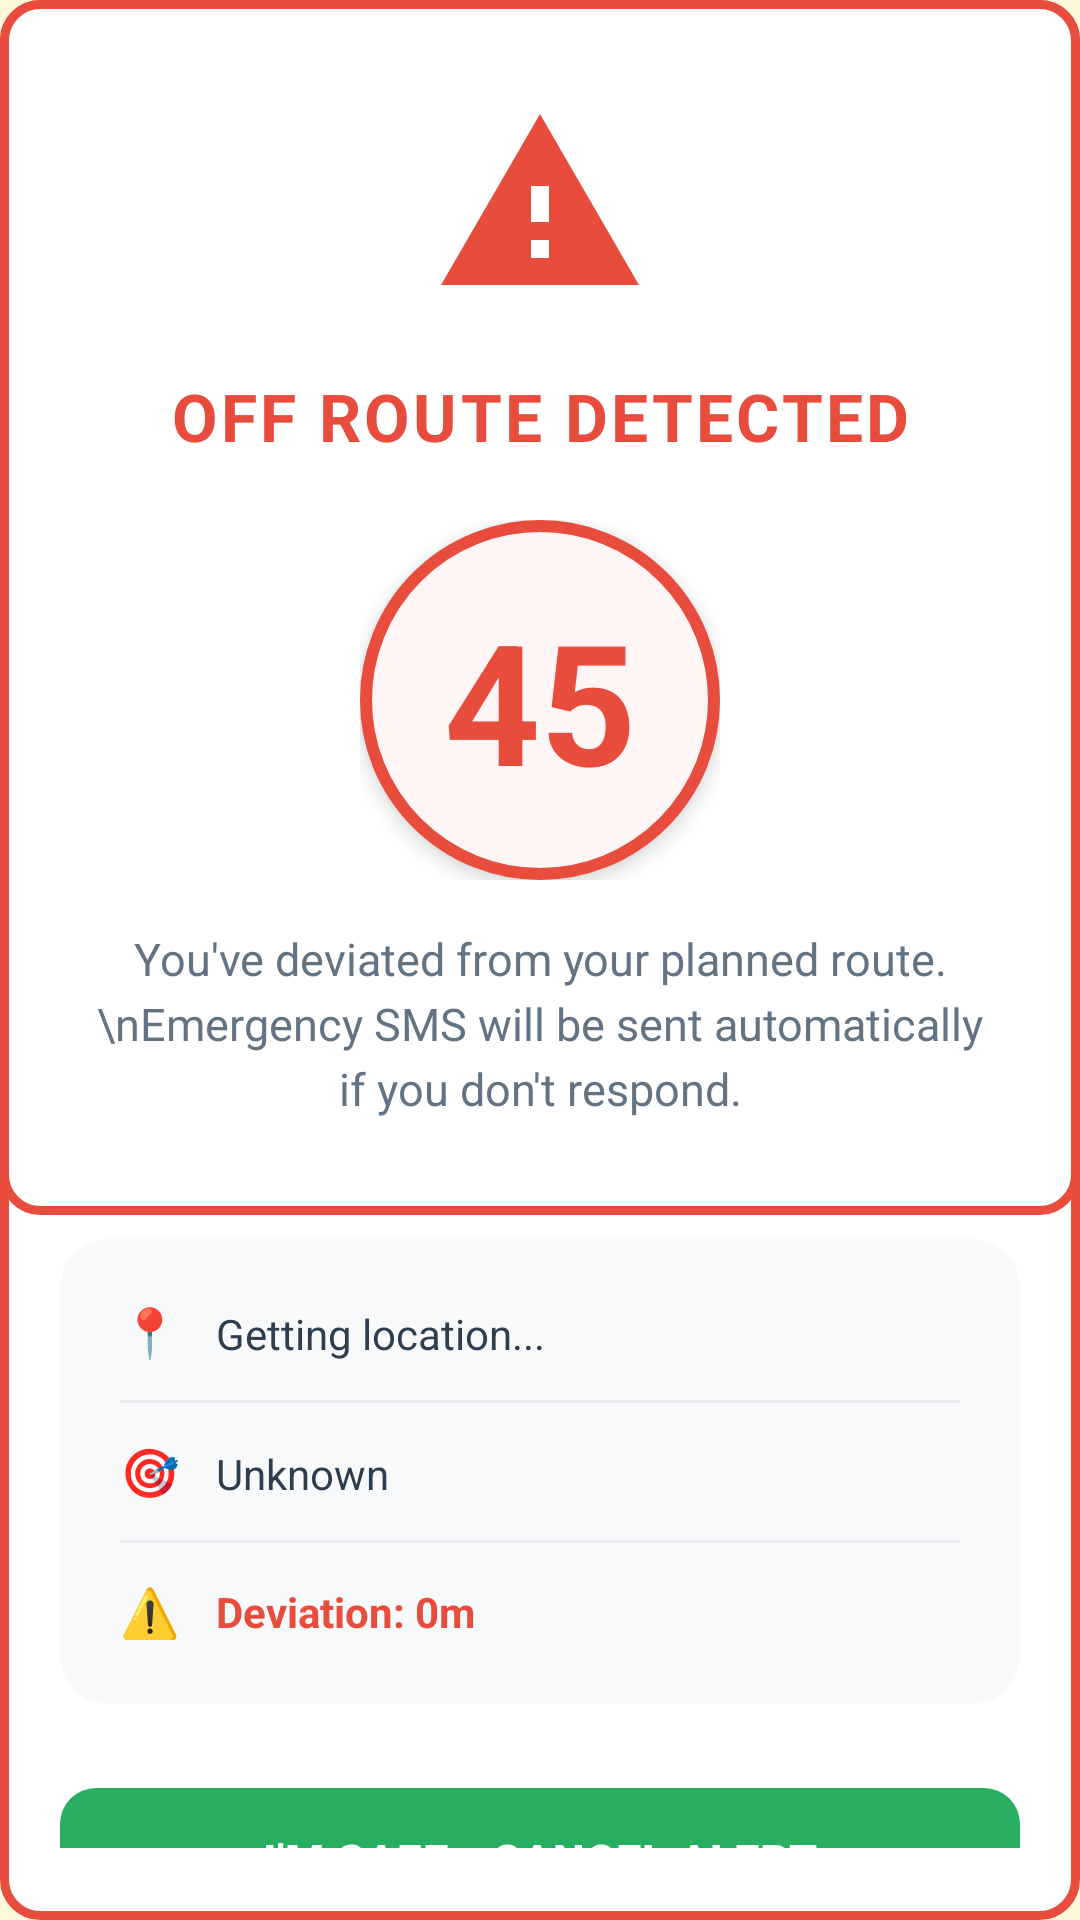

Icon bounding boxes for this 1080w x 1920h phone screenshot, format bbox=[x1, y1, x2, y2]:
Warning: bbox=[441, 114, 639, 285]
